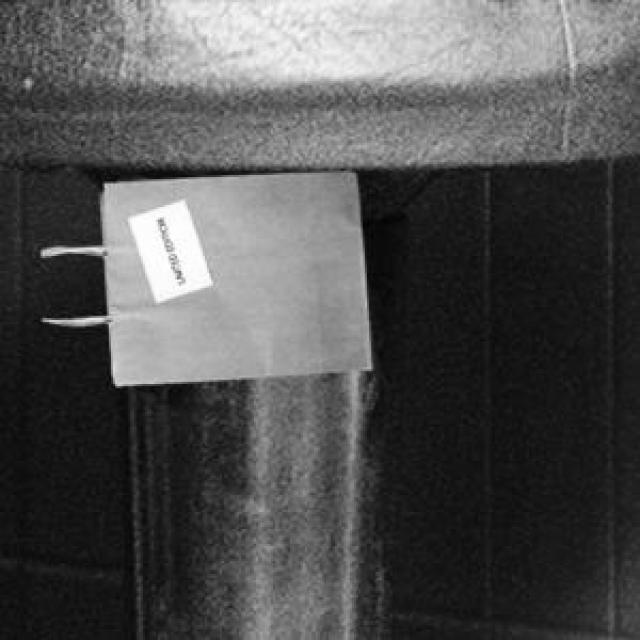paper: (38, 166, 368, 382)
